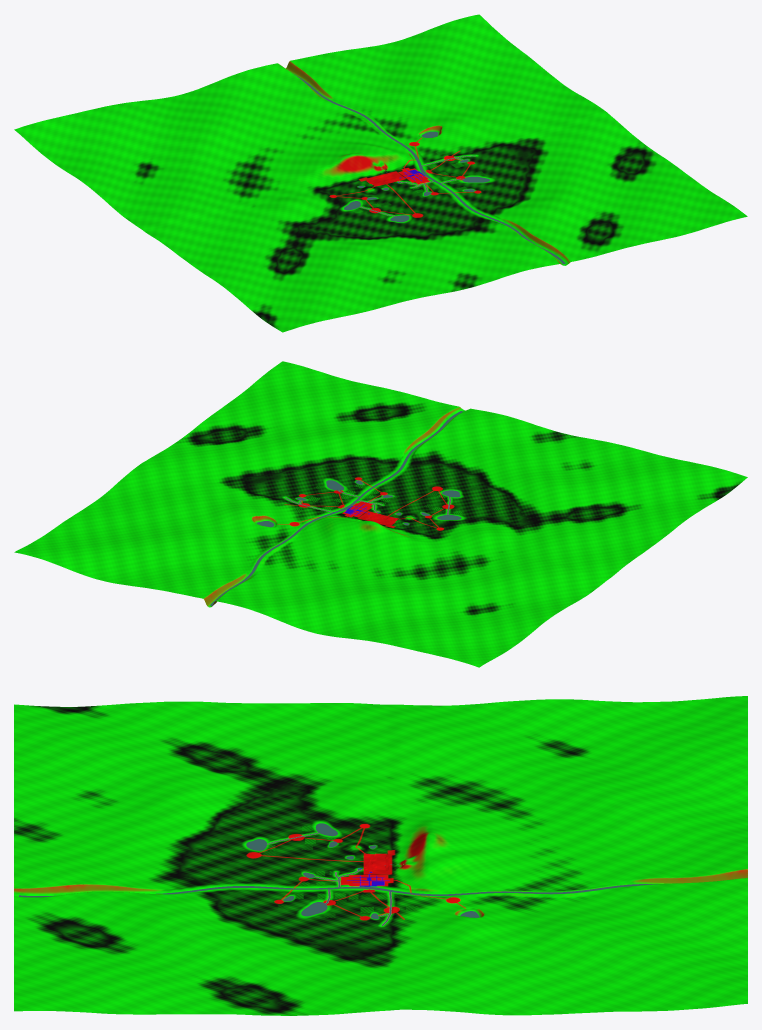
Rendered from shipyard_terrain.glb.
The picture shows the model from 3 angles, top to bottom: view 1: azimuth 30°, elevation 25°; view 2: azimuth 150°, elevation 25°; view 3: azimuth 270°, elevation 25°; orthographic projection. The views are drawn at different scales.
Parts seen in each view (by area): view 1: Terrain_Shipyard, Water_Canals_And_Lakes, Water_Euphrates_River; view 2: Terrain_Shipyard, Water_Euphrates_River, Water_Canals_And_Lakes; view 3: Terrain_Shipyard, Water_Canals_And_Lakes, Water_Euphrates_River.
Part boxes in pixels (left/top/right/bottom): Terrain_Shipyard: left=14, top=14, right=747, bottom=332; Water_Canals_And_Lakes: left=344, top=131, right=489, bottom=222; Water_Euphrates_River: left=292, top=73, right=565, bottom=264; Terrain_Shipyard: left=14, top=361, right=747, bottom=667; Water_Euphrates_River: left=210, top=411, right=463, bottom=605; Water_Canals_And_Lakes: left=256, top=480, right=461, bottom=527; Terrain_Shipyard: left=14, top=696, right=747, bottom=1015; Water_Canals_And_Lakes: left=246, top=823, right=479, bottom=925; Water_Euphrates_River: left=19, top=884, right=657, bottom=897.
Bounding box in the file's own units: 3000 × 90.11 × 3000.
4 materials, 2 textured.
